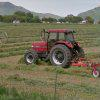Tractor: (15, 23, 79, 70)
